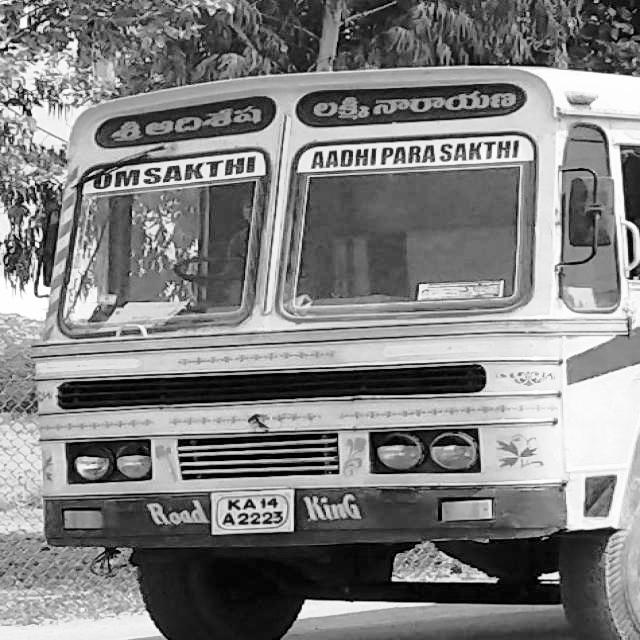HCV: (59, 79, 640, 640)
